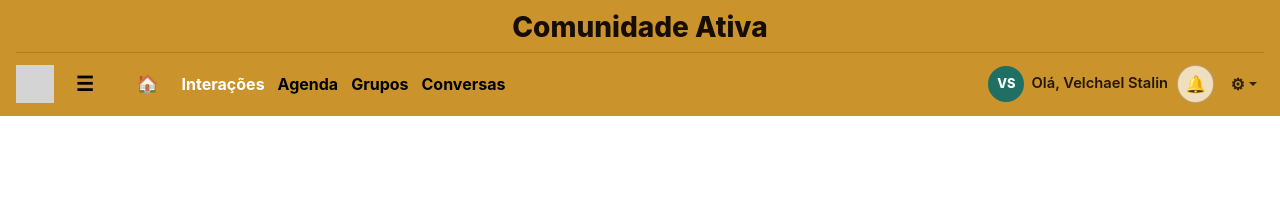
Test case: admin_basic local ve Comunidade y Membros sin Usuários
Step 1. Click the button "⚙" → (1244, 84), box [1223,65,1264,103]
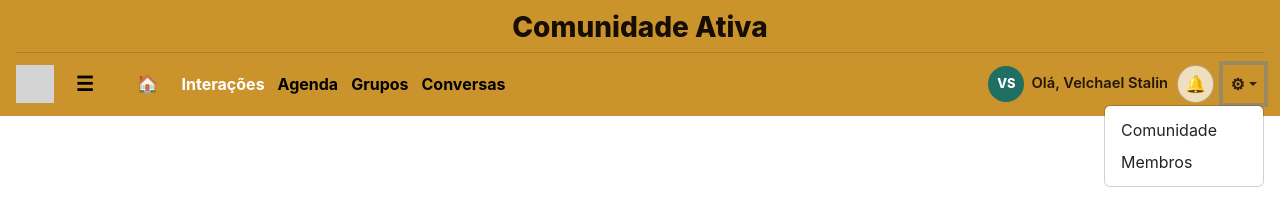
Expected: the link "Comunidade" is shown, [1121,120,1217,140]
Expected: the link "Membros" is shown, [1121,152,1192,172]
